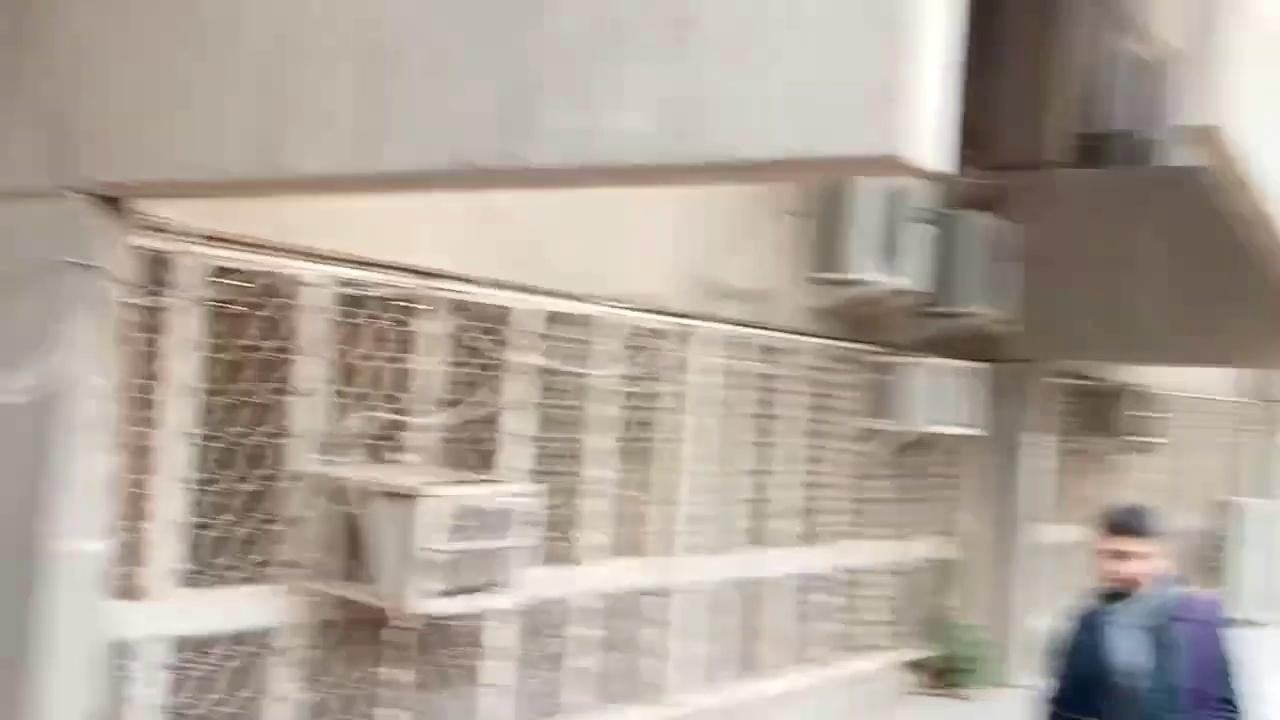person: (1043, 501, 1242, 718)
